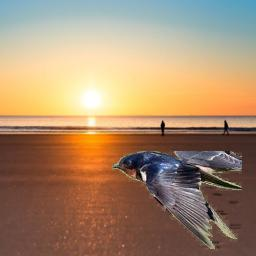Swallow: (112, 151, 242, 249)
